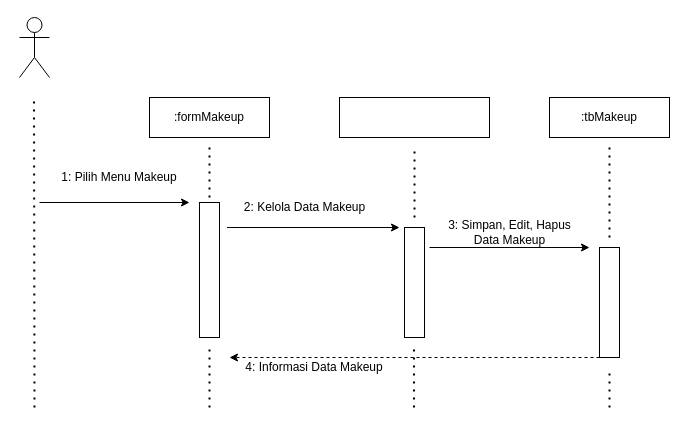
This 687x427 diagram has some shape labels left out. Each missing label, with the centre of its shape:
":formKelolaDataMakeup" goes at (414,117).
"Admin" goes at (34,47).
